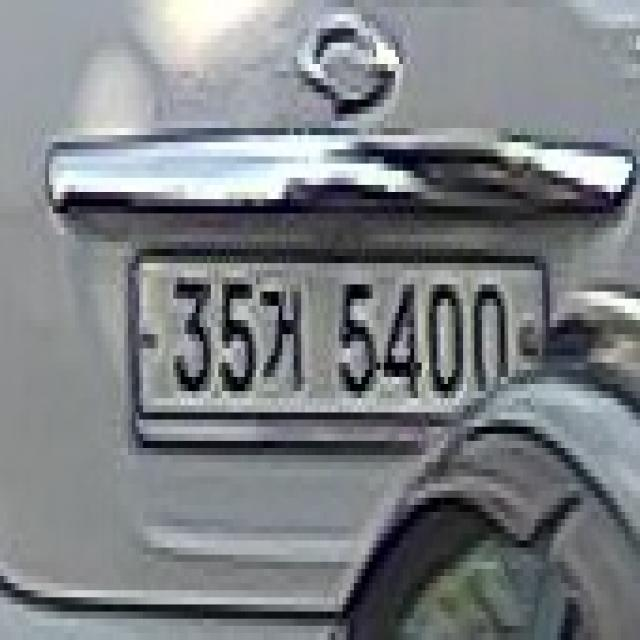0: (467, 270, 512, 406), (425, 277, 463, 398)
3: (173, 270, 211, 398)
4: (380, 277, 422, 391)
5: (214, 277, 260, 398), (332, 277, 376, 398)
geo: (256, 277, 305, 398)
license_plate: (128, 242, 553, 434)
